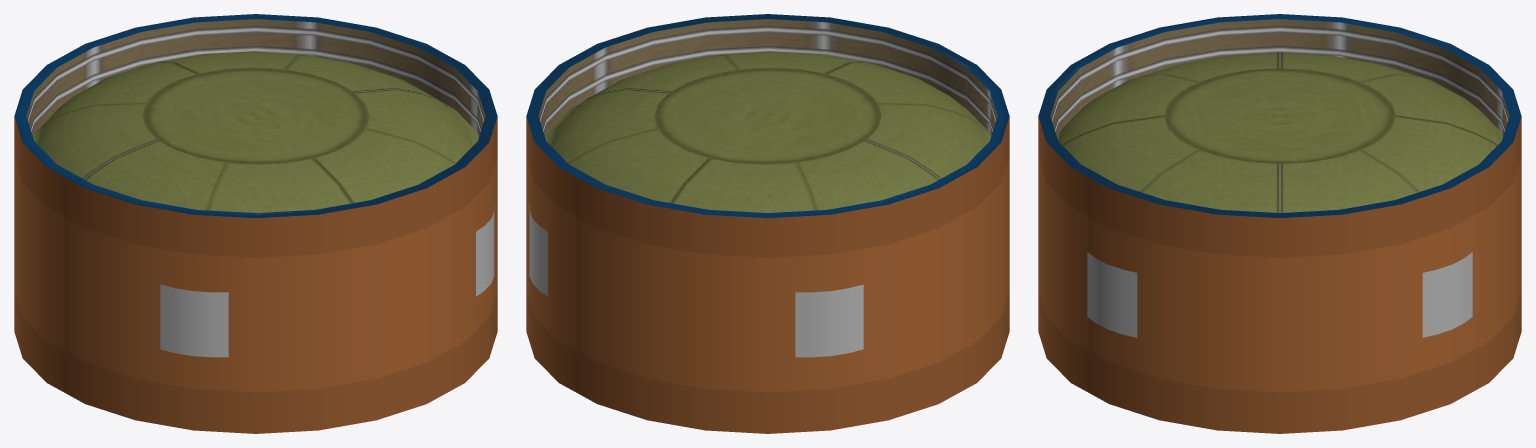
The model's file is FLM-3600.FBX.
3 renders of one model, left to right at view 1: azimuth 30°, elevation 25°; view 2: azimuth 150°, elevation 25°; view 3: azimuth 270°, elevation 25°, orthographic.
Visible parts, largest first — view 1: TankBody, EndCap001, TankSleeve001, TankSleeve002, decalPanel002, decalPanel001; view 2: TankBody, EndCap001, TankSleeve001, TankSleeve002, decalPanel003, decalPanel004; view 3: TankBody, EndCap001, TankSleeve001, TankSleeve002, decalPanel001, decalPanel004.
Boxes of the visible parts, box(x1,y1,x2,y2) form: TankBody: box(14, 157, 497, 392); EndCap001: box(33, 51, 478, 212); TankSleeve001: box(14, 14, 497, 257); TankSleeve002: box(14, 291, 497, 433); decalPanel002: box(160, 284, 228, 357); decalPanel001: box(476, 203, 494, 296); TankBody: box(526, 157, 1009, 392); EndCap001: box(545, 51, 990, 212); TankSleeve001: box(526, 14, 1009, 257); TankSleeve002: box(526, 291, 1009, 433); decalPanel003: box(795, 284, 863, 357); decalPanel004: box(529, 203, 547, 296); TankBody: box(1038, 157, 1521, 392); EndCap001: box(1057, 53, 1502, 212); TankSleeve001: box(1038, 14, 1521, 257); TankSleeve002: box(1038, 291, 1521, 433); decalPanel001: box(1087, 252, 1137, 337); decalPanel004: box(1422, 252, 1472, 337).
Size of what is drawn, in the model's own units: 3.75 by 3.75 by 1.85.
